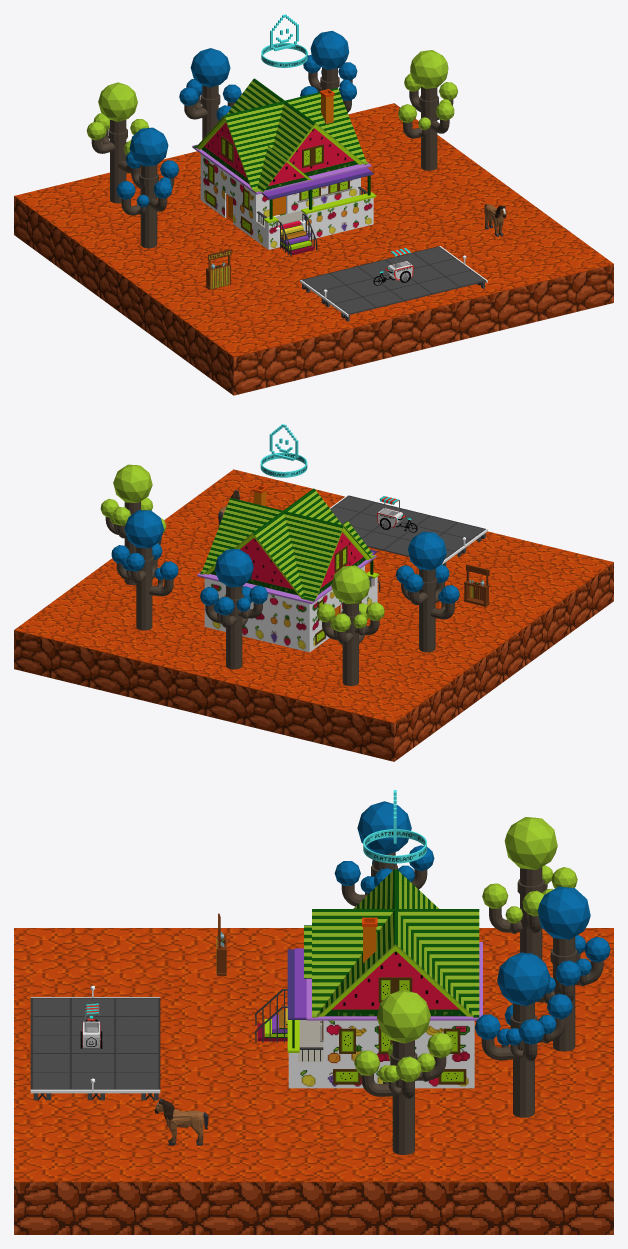
3 views of the same model, one above another, from view 1: azimuth 30°, elevation 25°; view 2: azimuth 150°, elevation 25°; view 3: azimuth 270°, elevation 25° (orthographic). The views are drawn at different scales.
Visible parts, largest first — view 1: Cube.001, Cube.1063, TYPE_PREMIUM, OBJRANDOM_LEMONADE_STAND, VEHICLES_SNOWBAL_BIKE, ANIMAL_CABALLO; view 2: Cube.001, Cube.1063, TYPE_PREMIUM, OBJRANDOM_LEMONADE_STAND, VEHICLES_SNOWBAL_BIKE; view 3: Cube.001, Cube.1063, TYPE_PREMIUM, ANIMAL_CABALLO, VEHICLES_SNOWBAL_BIKE.
Boxes of the visible parts, x1,y1,x2,y2 form: Cube.001: (14, 30, 613, 395); Cube.1063: (192, 78, 376, 256); TYPE_PREMIUM: (261, 14, 307, 67); OBJRANDOM_LEMONADE_STAND: (205, 249, 231, 289); VEHICLES_SNOWBAL_BIKE: (373, 248, 413, 285); ANIMAL_CABALLO: (484, 204, 506, 236); Cube.001: (14, 464, 613, 761); Cube.1063: (197, 485, 380, 652); TYPE_PREMIUM: (260, 424, 307, 477); OBJRANDOM_LEMONADE_STAND: (464, 564, 489, 606); VEHICLES_SNOWBAL_BIKE: (377, 496, 417, 532); Cube.001: (14, 801, 613, 1234); Cube.1063: (255, 869, 482, 1088); TYPE_PREMIUM: (363, 790, 426, 863); ANIMAL_CABALLO: (154, 1098, 208, 1145); VEHICLES_SNOWBAL_BIKE: (80, 1003, 102, 1048).
Size of the model in its own units: 4000 by 2410 by 4000.
40 materials, 7 textured.
